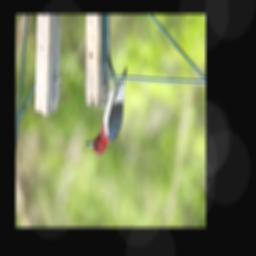Woodpecker: (85, 66, 127, 155)
